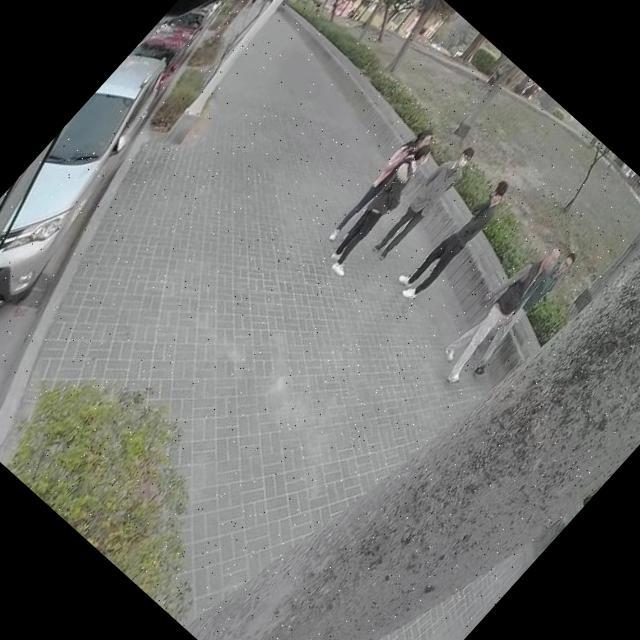person: (430, 230, 578, 387), (310, 132, 453, 285), (450, 239, 580, 381), (318, 112, 444, 248), (395, 175, 516, 306), (365, 142, 480, 266)
